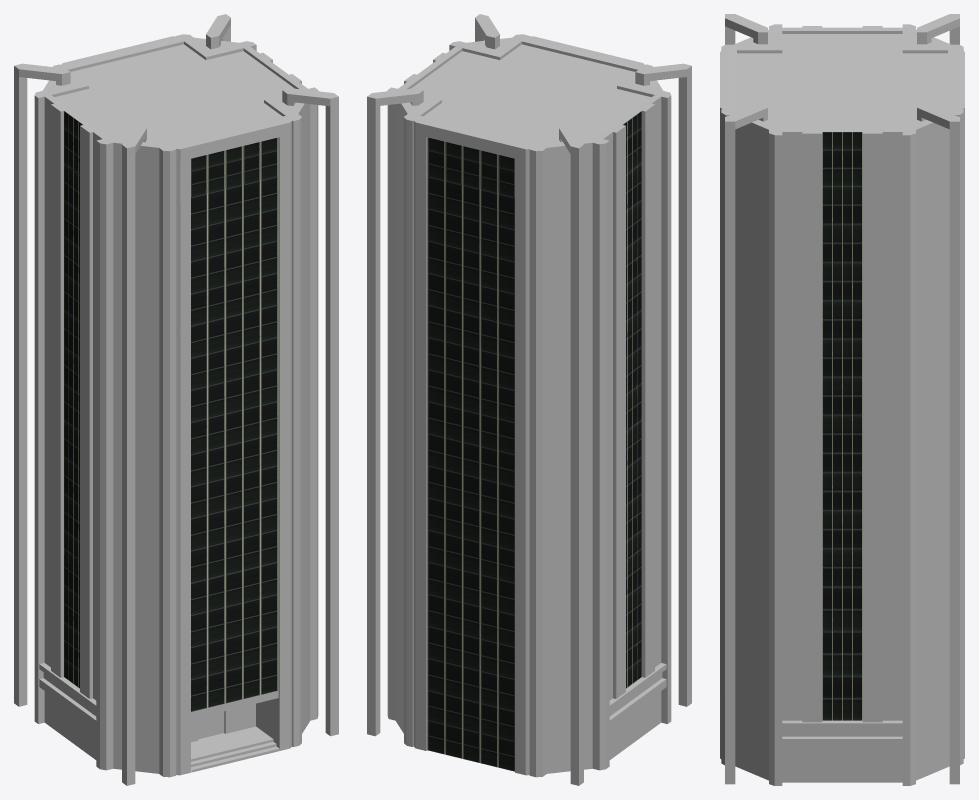
3 views of the same model, side by side, from view 1: azimuth 30°, elevation 25°; view 2: azimuth 150°, elevation 25°; view 3: azimuth 270°, elevation 25° (orthographic). The views are drawn at different scales.
Visible parts, largest first — view 1: Building; view 2: Building; view 3: Building.
Boxes of the visible parts, left/top/right/bottom form: Building: left=14, top=14, right=338, bottom=785; Building: left=367, top=14, right=691, bottom=785; Building: left=720, top=14, right=964, bottom=785.
Size of what is drawn, in the model's own units: 25.29 by 70.61 by 23.64.
